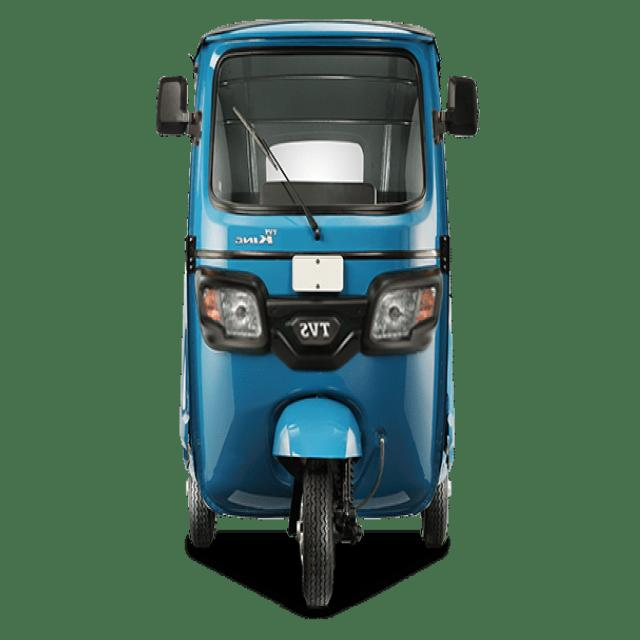autorickshaw: (156, 20, 479, 606)
